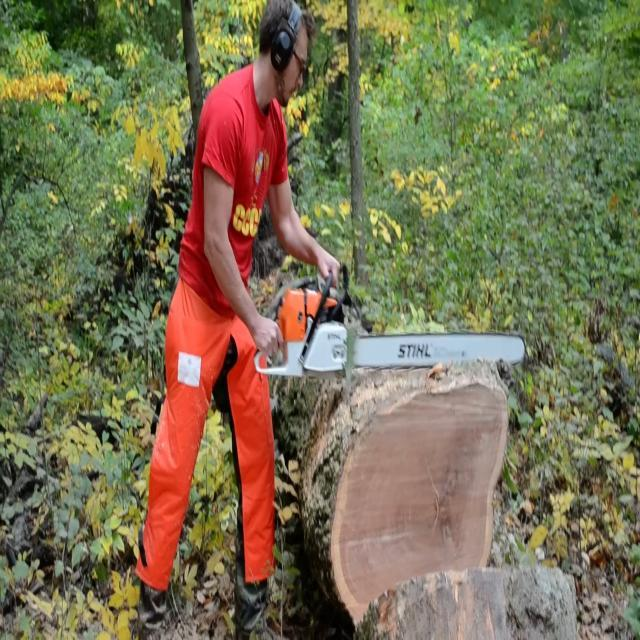Chainsaw: (246, 266, 534, 401)
